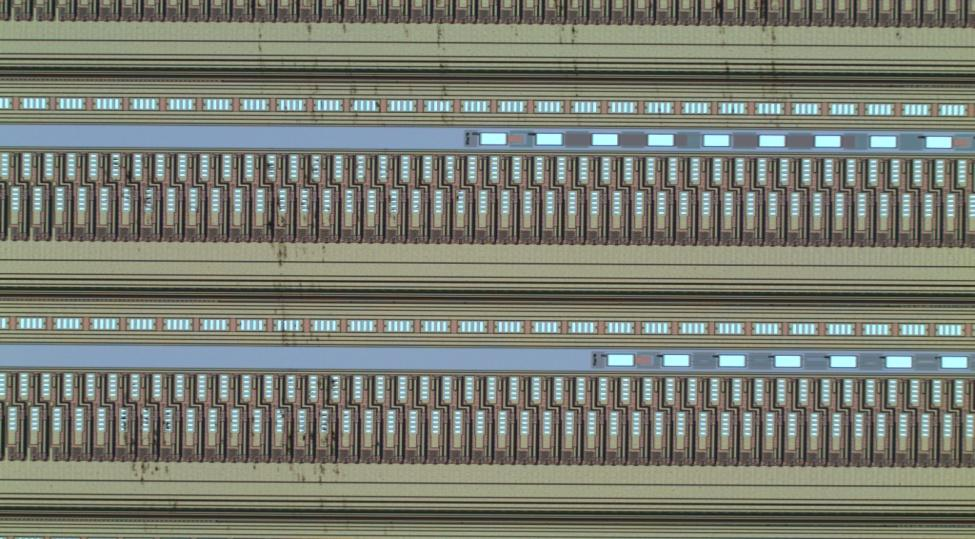SCRATCH: (111, 1, 931, 539)
